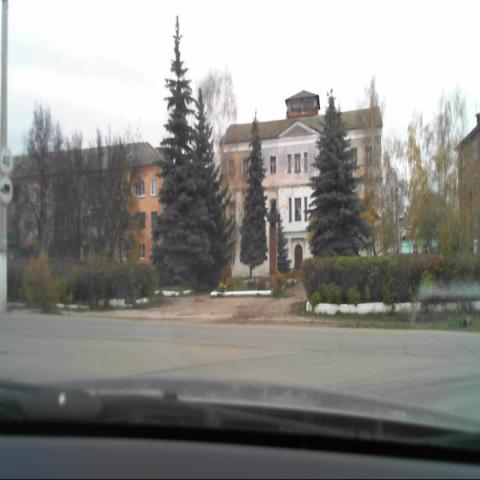3_4_1: (0, 176, 13, 204)
